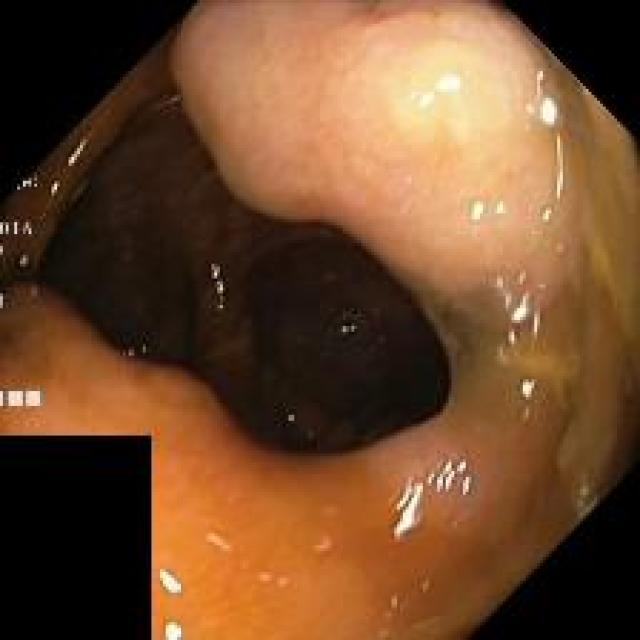Polyps: (0, 4, 640, 638)
